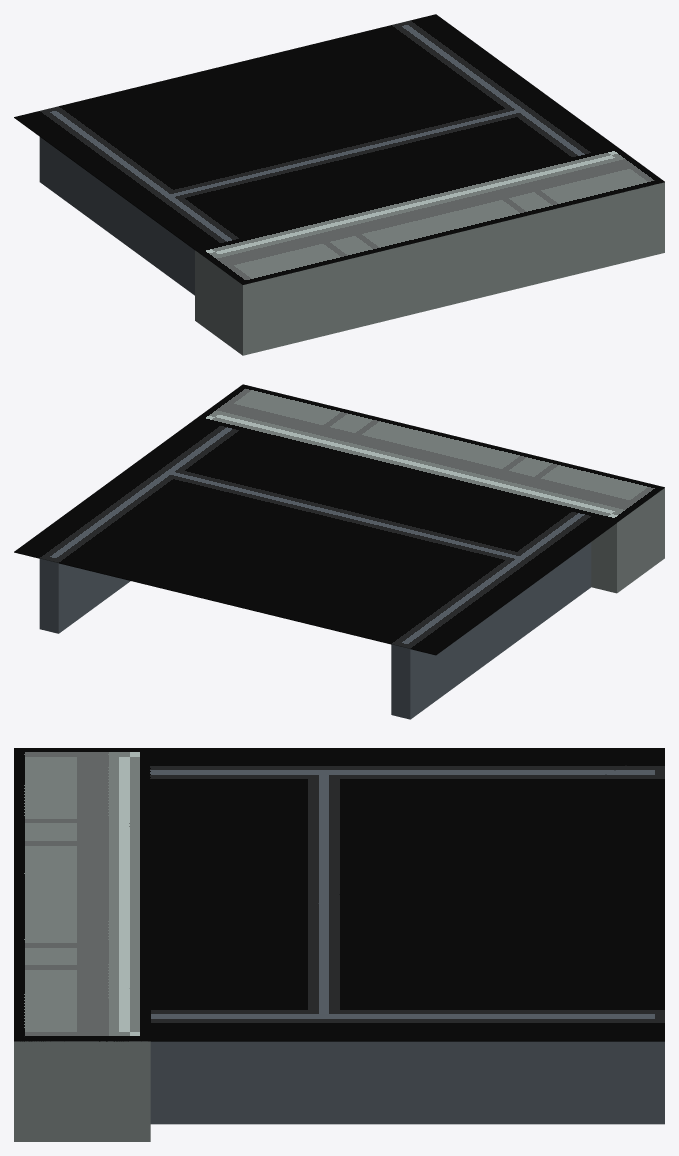
Rendered from CMU3DReduxVehicleTankSnowplowTWEMounted.glb.
3 renders of one model, top to bottom at view 1: azimuth 30°, elevation 25°; view 2: azimuth 150°, elevation 25°; view 3: azimuth 270°, elevation 25°, orthographic. The views are drawn at different scales.
Parts seen in each view (by area): view 1: dozer structure original finish, dozer structure section (×5); view 2: dozer structure original finish, dozer structure section (×6); view 3: dozer structure original finish, dozer structure section (×5).
Part boxes in pixels (left/top/right/bottom): dozer structure original finish: left=14, top=14, right=664, bottom=284; dozer structure section (×5): left=39, top=137, right=664, bottom=355; dozer structure original finish: left=14, top=384, right=664, bottom=655; dozer structure section (×6): left=39, top=488, right=664, bottom=719; dozer structure original finish: left=14, top=748, right=664, bottom=1041; dozer structure section (×5): left=14, top=1041, right=664, bottom=1141.
Bounding box in the file's own units: 2.06 × 0.332 × 1.94.
Materials: 3 (1 with a texture image).
